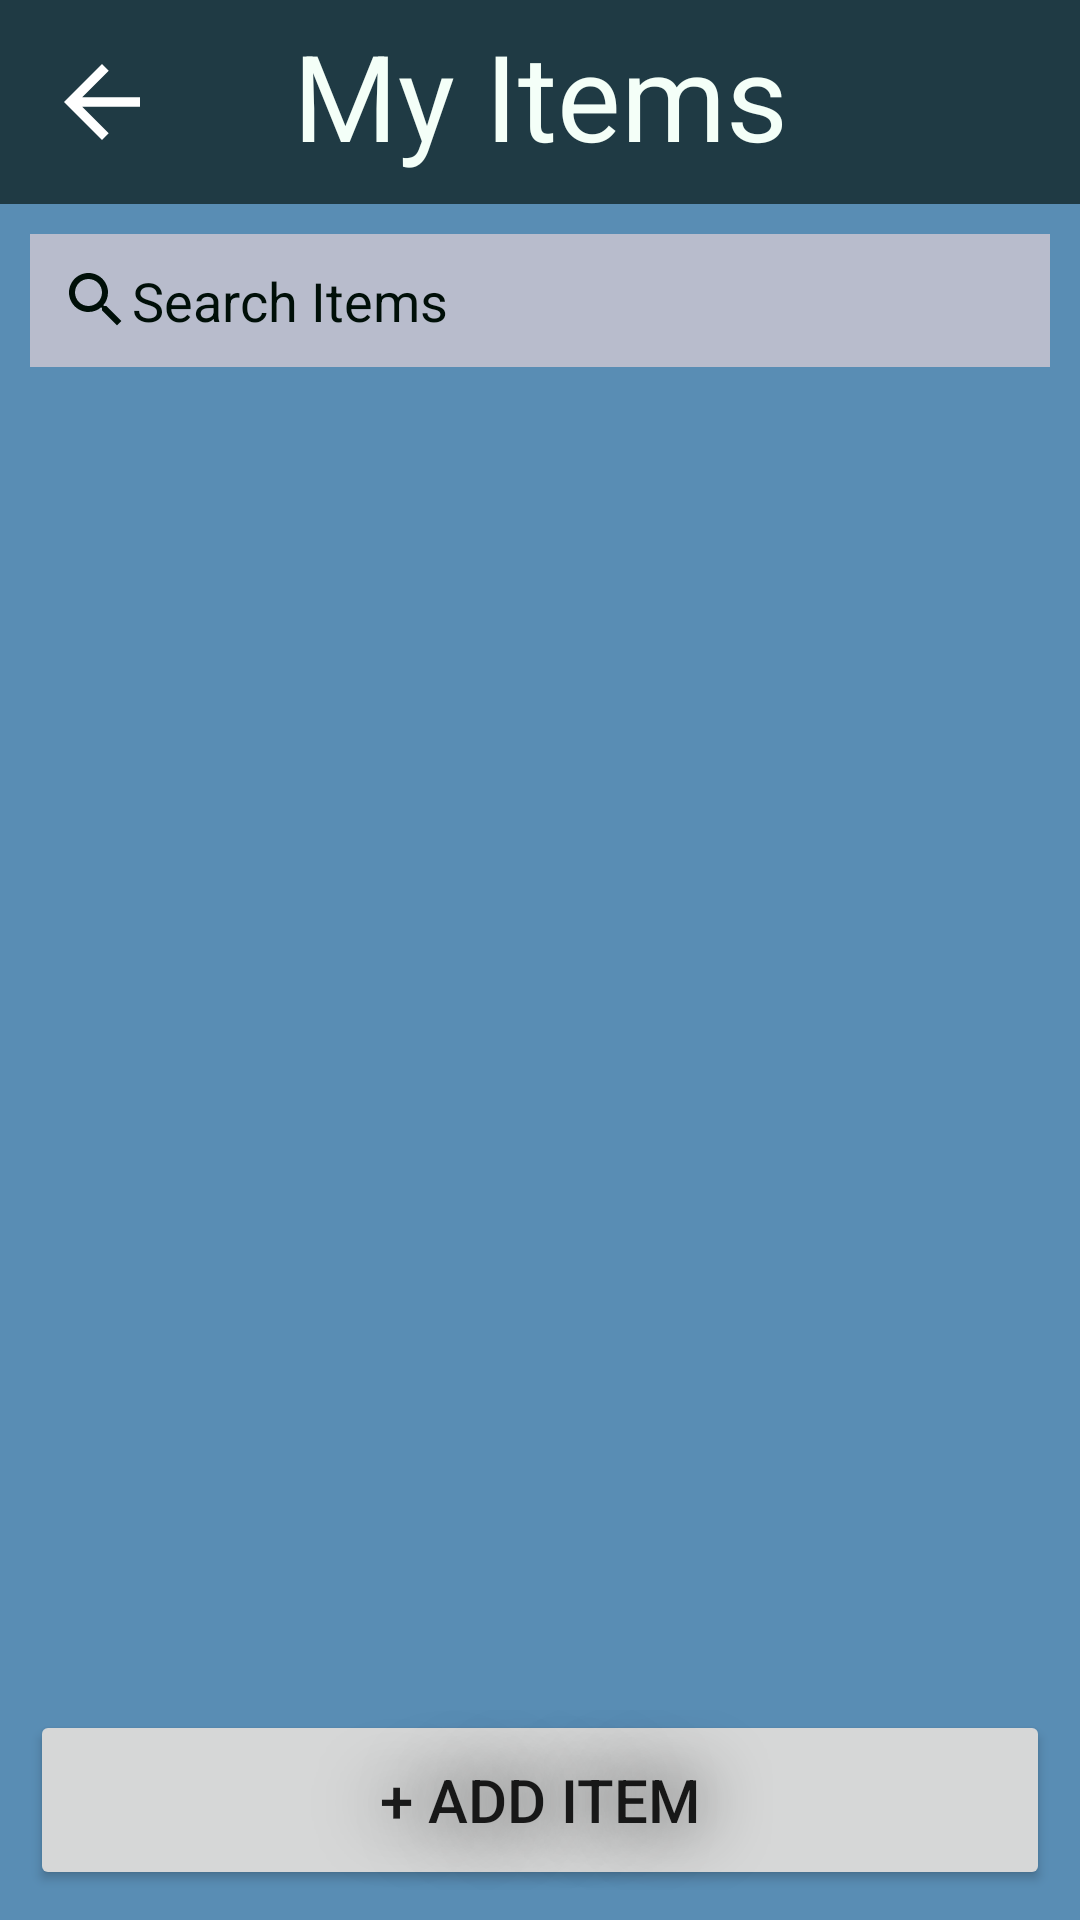

Icons on this 1080w x 1920h Android screen, each with its box as bbox=[x1, y1, x2, y2]:
arrow: bbox=[64, 64, 140, 140]
